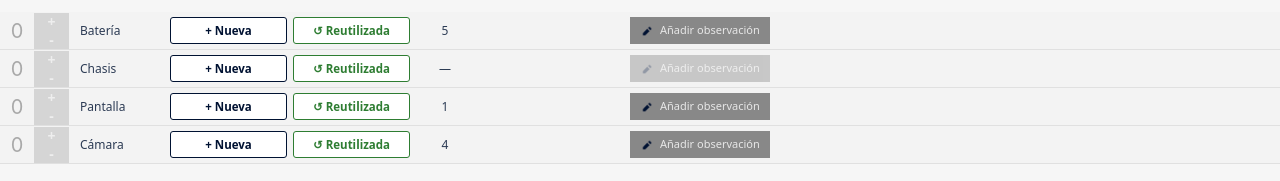
Test: 0.9.19 · la elección en la celda del SKU (spec §2) › «Reutilizada»: contador «—», sin «+», stock sin flecha y marca «↺ Reutilizada»
The width and height of the screenshot is (1280, 181).
Click the button with aria-label "Reutilizada Batería": (352, 30) [293,17,410,44]
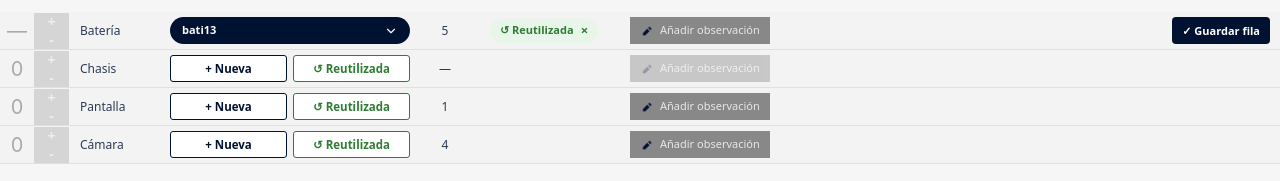
Check: the button named "Sumar Batería" is disabled, box [34,12,69,30]
Check: the text with test id "contador-bat" reads "—", box [7,18,27,42]
Check: the element with test id "marca-bat" shows "↺ Reutilizada", box [500,22,574,37]
